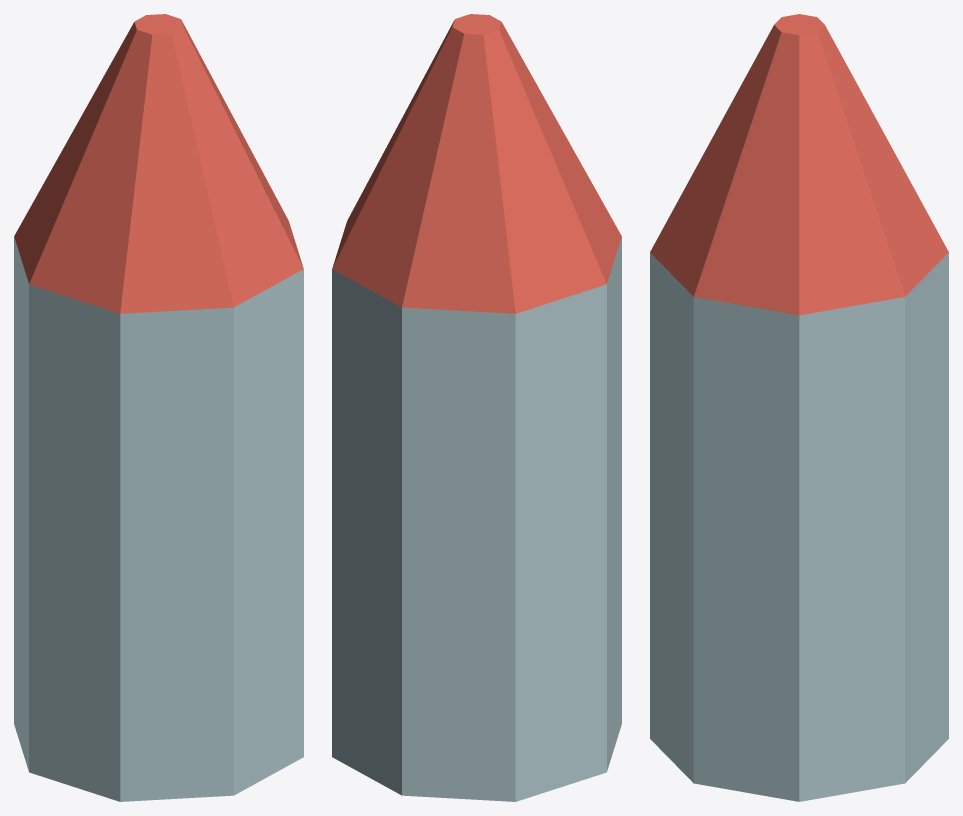
Rendered from bullet_simpl.glb.
The picture shows the model from 3 angles, left to right: view 1: azimuth 30°, elevation 25°; view 2: azimuth 150°, elevation 25°; view 3: azimuth 270°, elevation 25°; orthographic projection.
Parts seen in each view (by area): view 1: buller-col; view 2: buller-col; view 3: buller-col.
Part boxes in pixels (left/top/right/bottom): buller-col: left=14, top=14, right=303, bottom=801; buller-col: left=332, top=14, right=621, bottom=801; buller-col: left=650, top=14, right=948, bottom=801.
Size of the model in its own units: 0.02 by 0.0527 by 0.02.
